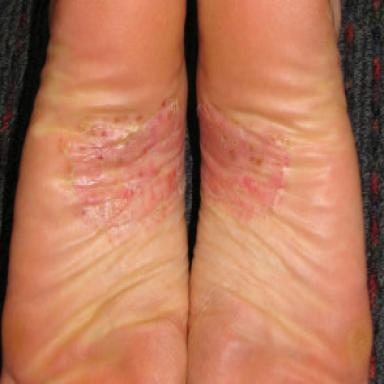eczema: (67, 97, 185, 227), (202, 102, 290, 221)
